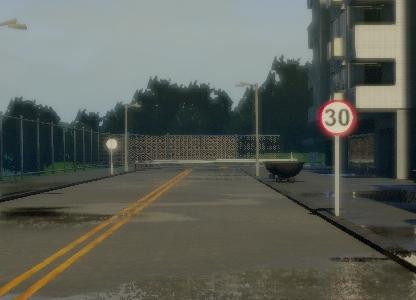Speed_30: (323, 96, 367, 140)
